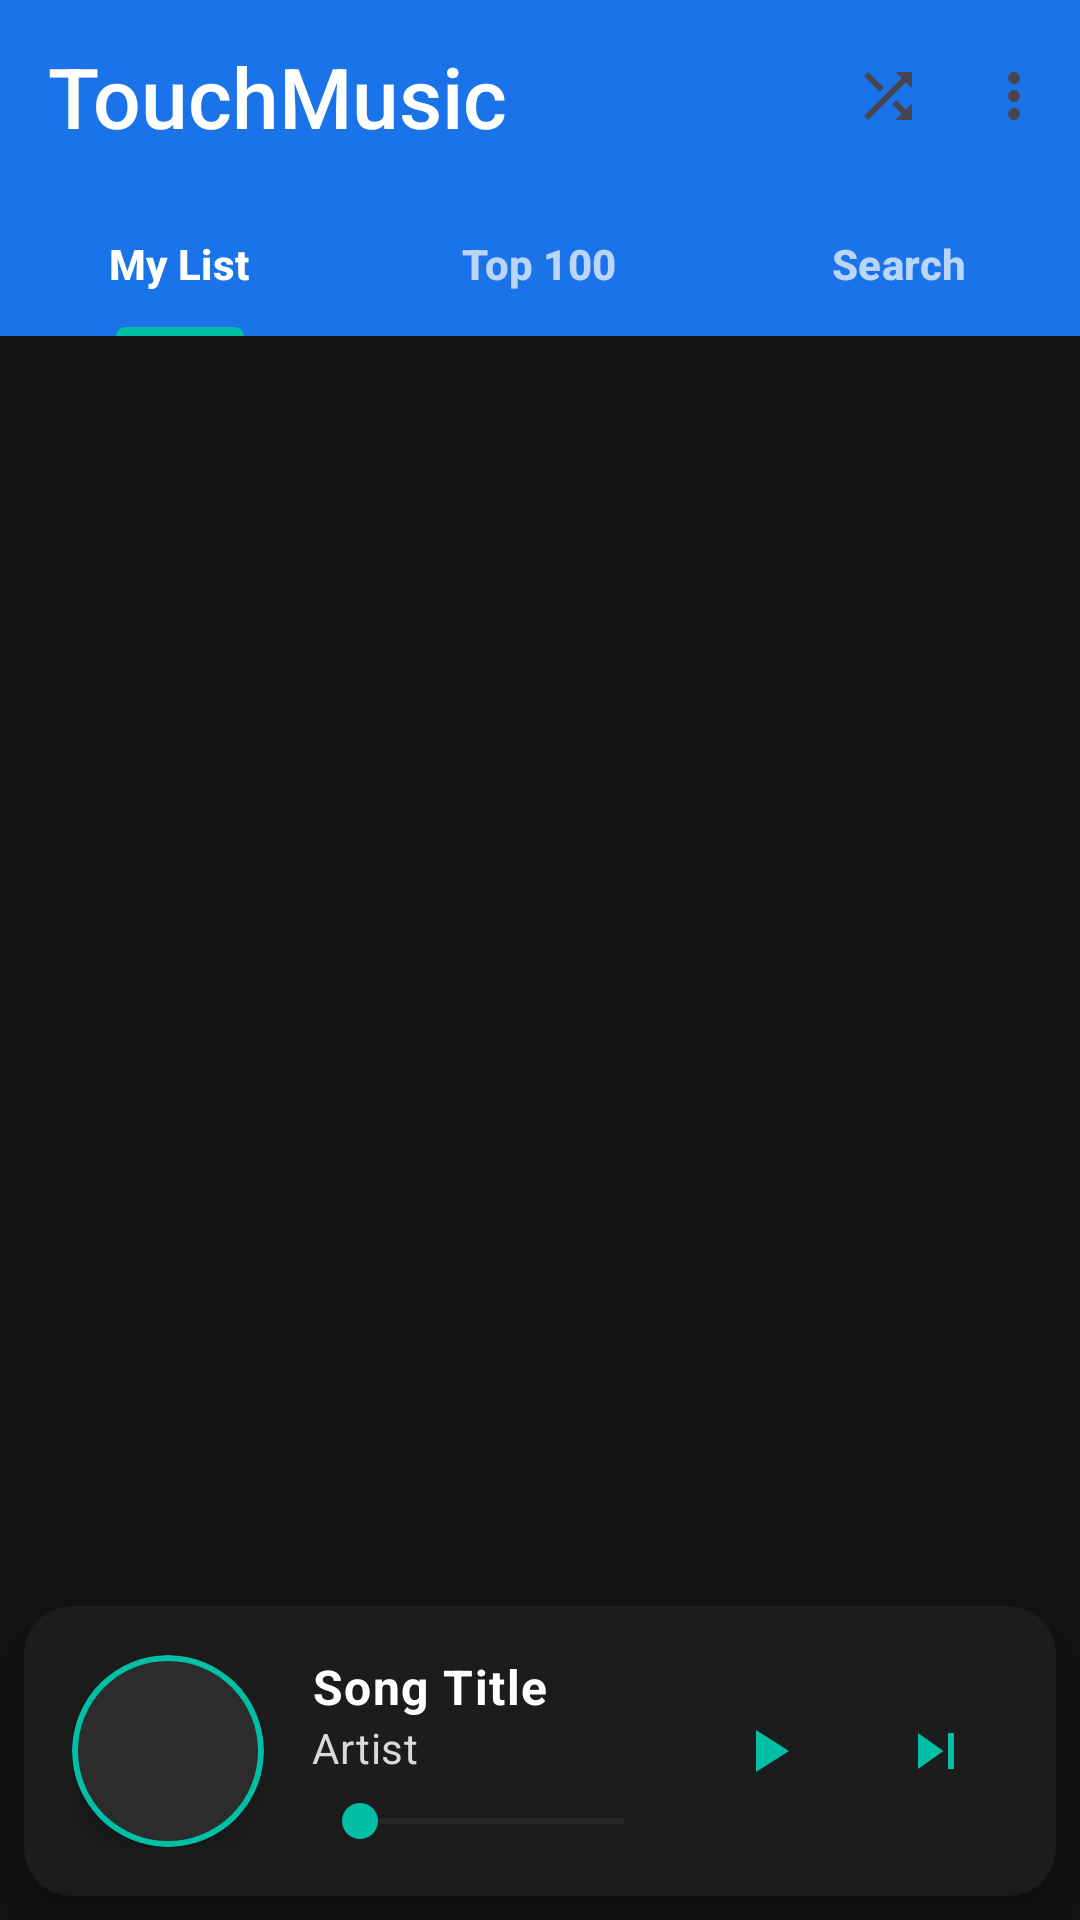

Named icons in this screenshot (1080*1920) and their centers, (x,y):
next: (936,1751)
play: (772,1751)
